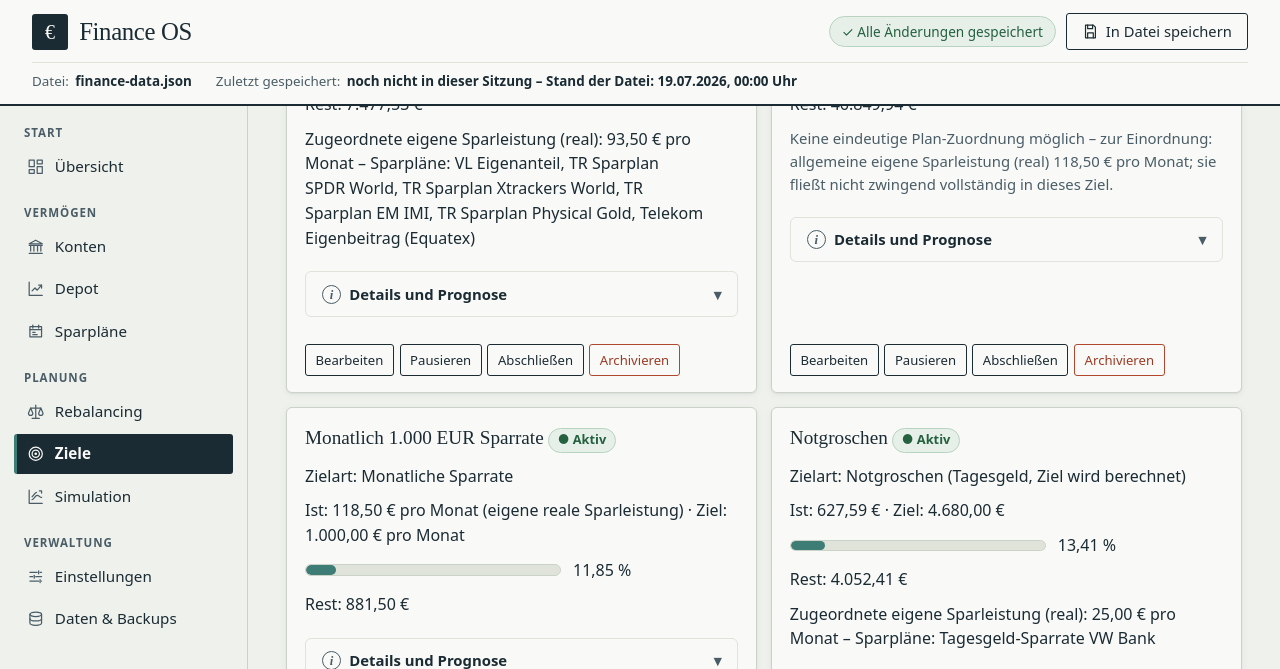
GoalsPage – Formulare › A→B-Wechsel: das Bearbeiten-Formular übernimmt NIE den Zustand des vorherigen Ziels (key)
(page scrolled)
Click the button with aria-label "Ziel „10.000 EUR Depot“ bearbeiten": [349, 360] box [305,344,394,376]
(page scrolled)
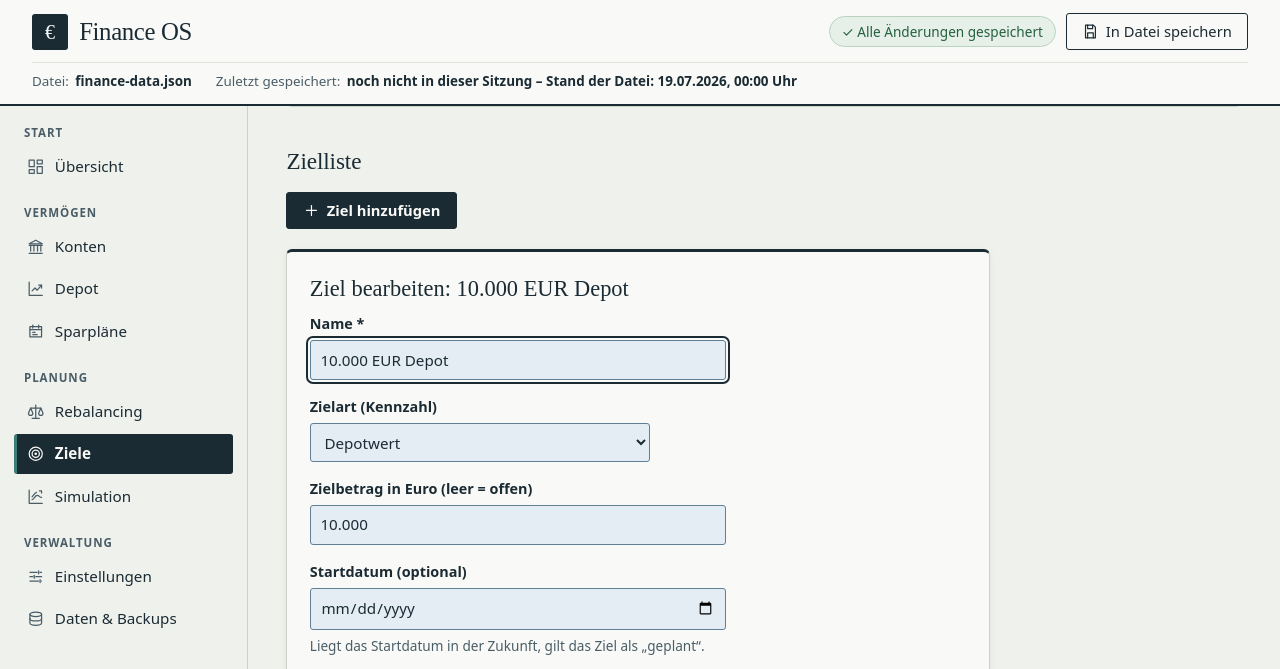
Now the field labelled "Name *" holds "10.000 EUR Depot"
Replace the text in the field labelled "Name *" with "Umbenannt aber nicht gespeichert": [518, 360] box [310,340,726,380]
(page scrolled)
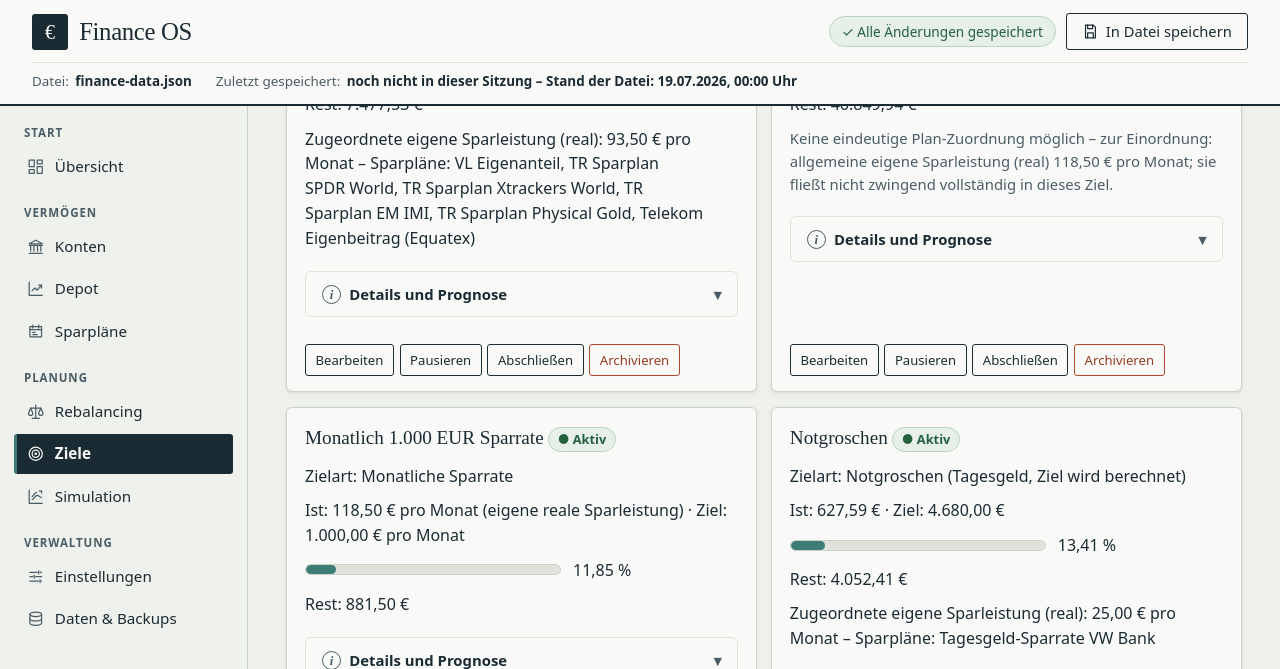
Click the button with aria-label "Ziel „50.000 EUR Gesamtvermoegen“ bearbeiten": [834, 360] box [790,344,879,376]
(page scrolled)
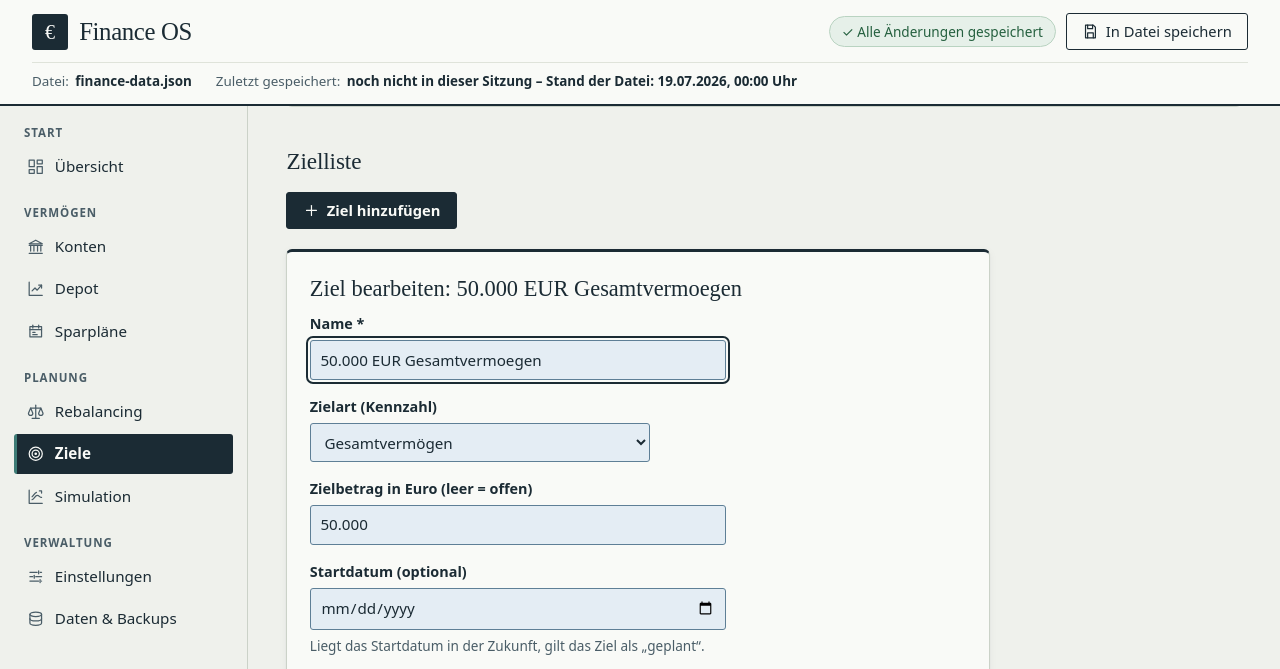
Now the field labelled "Name *" holds "50.000 EUR Gesamtvermoegen", box [310,340,726,380]
